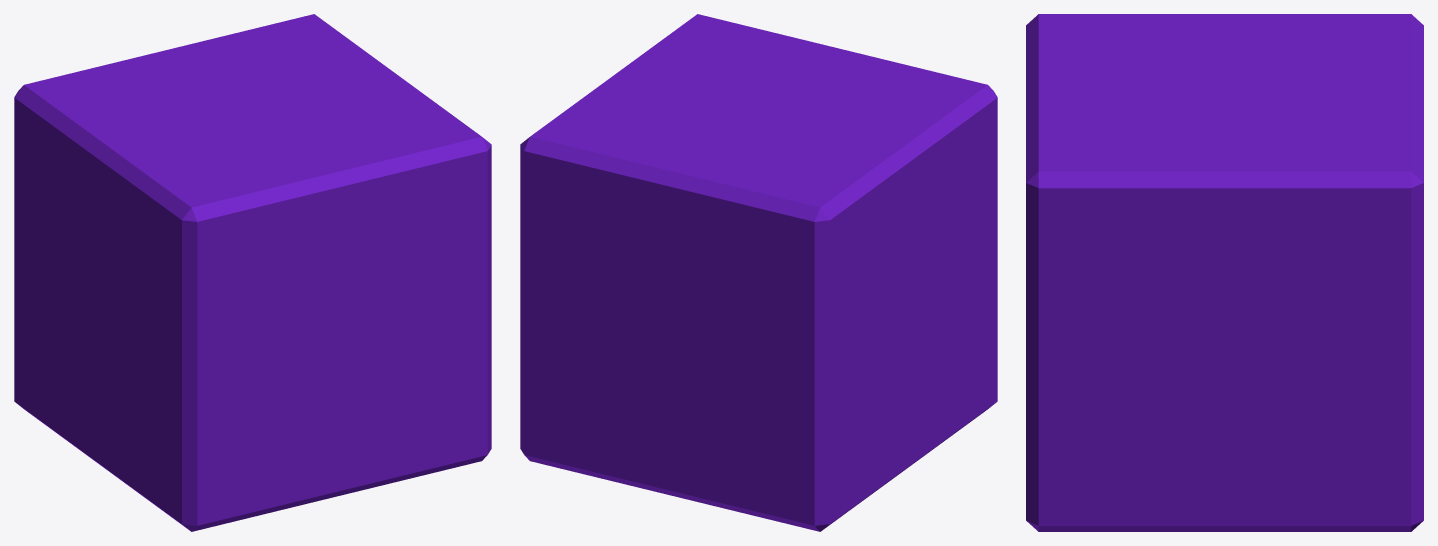
File: TrainingCosmic_Split.fbx
The picture shows the model from 3 angles, left to right: view 1: azimuth 30°, elevation 25°; view 2: azimuth 150°, elevation 25°; view 3: azimuth 270°, elevation 25°; orthographic projection. The views are drawn at different scales.
Parts seen in each view (by area): view 1: CosmicCube_L, CosmicCube_R; view 2: CosmicCube_L, CosmicCube_R; view 3: CosmicCube_R, CosmicCube_L.
Part boxes in pixels (x1=…): CosmicCube_L: x1=14, y1=49, x2=342, y2=531; CosmicCube_R: x1=169, y1=14, x2=491, y2=496; CosmicCube_L: x1=669, y1=49, x2=997, y2=531; CosmicCube_R: x1=520, y1=14, x2=842, y2=496; CosmicCube_R: x1=1026, y1=92, x2=1423, y2=531; CosmicCube_L: x1=1026, y1=14, x2=1423, y2=103.
Size of the model in its own units: 1.9 by 1.9 by 1.9.
